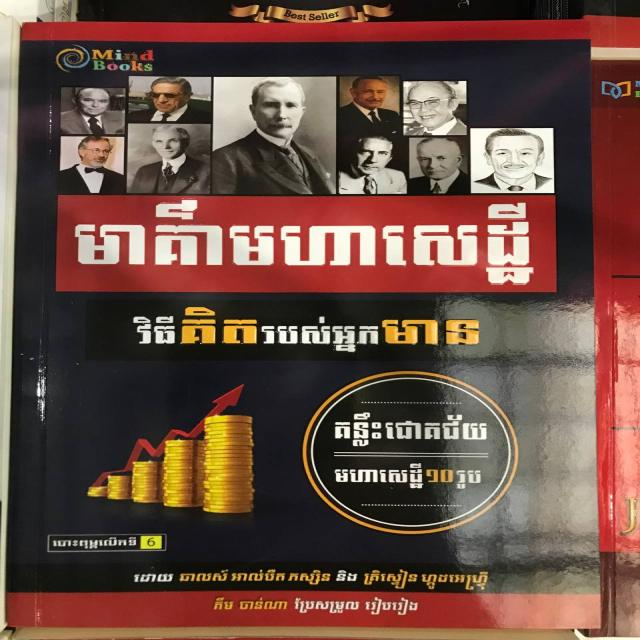Yolov11_80vkh: (66, 192, 553, 288), (129, 303, 492, 358), (332, 410, 498, 450), (328, 460, 489, 492)
